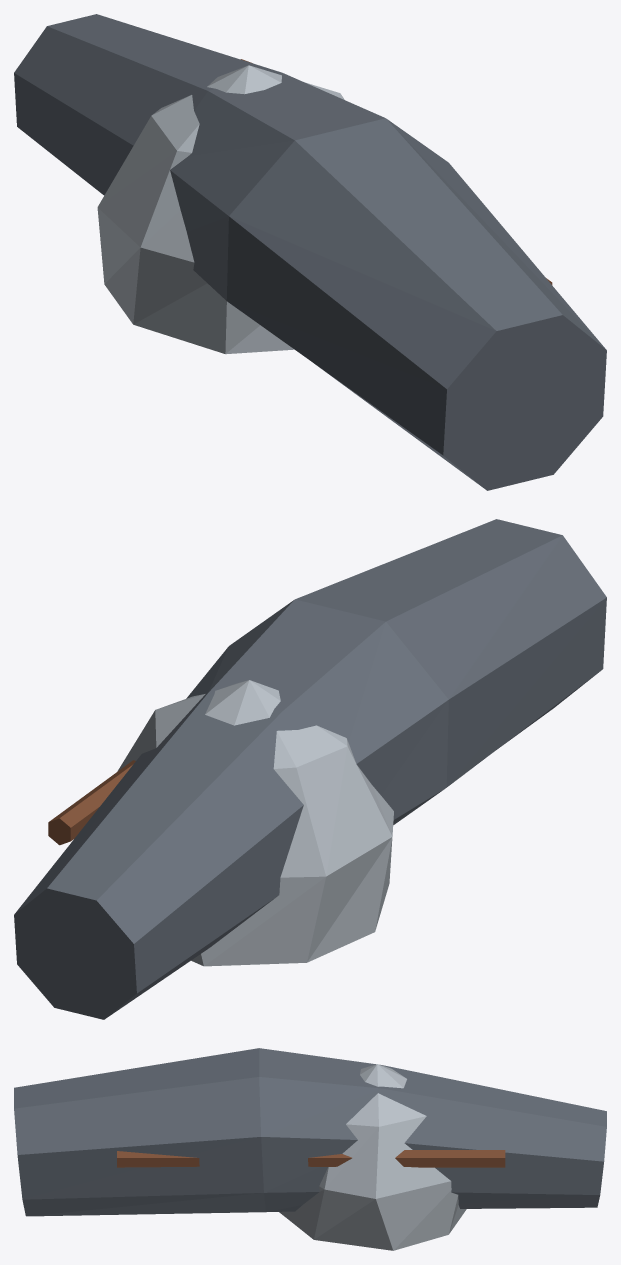
Rendered from warwalker_leg.obj.
3 renders of one model, top to bottom at view 1: azimuth 30°, elevation 25°; view 2: azimuth 150°, elevation 25°; view 3: azimuth 270°, elevation 25°, orthographic. The views are drawn at different scales.
Parts seen in each view (by area): view 1: warwalker_leg; view 2: warwalker_leg; view 3: warwalker_leg.
Boxes of the visible parts, x1,y1,x2,y2 form: warwalker_leg: (14, 14, 606, 490); warwalker_leg: (14, 519, 606, 1019); warwalker_leg: (14, 1048, 606, 1250).
Bounding box in the file's own units: 1.23 × 1.01 × 3.67.
